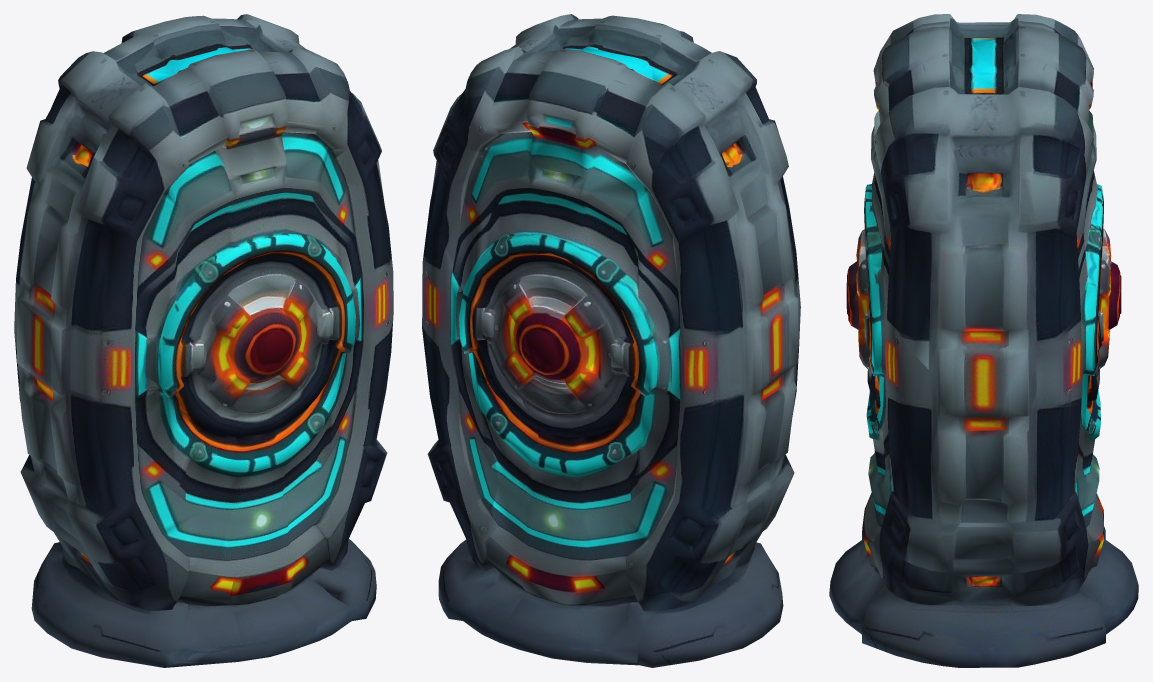
The model's file is season_reward_vault.glb.
3 views of the same model, side by side, from view 1: azimuth 30°, elevation 25°; view 2: azimuth 150°, elevation 25°; view 3: azimuth 270°, elevation 25° (orthographic).
Bounding box in the file's own units: 1.18 × 1.9 × 0.9602.
1 material, 1 textured.
